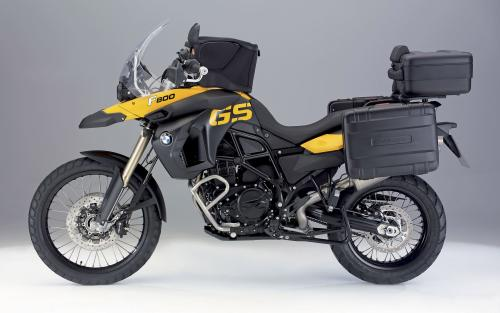motor: (43, 32, 485, 299)
